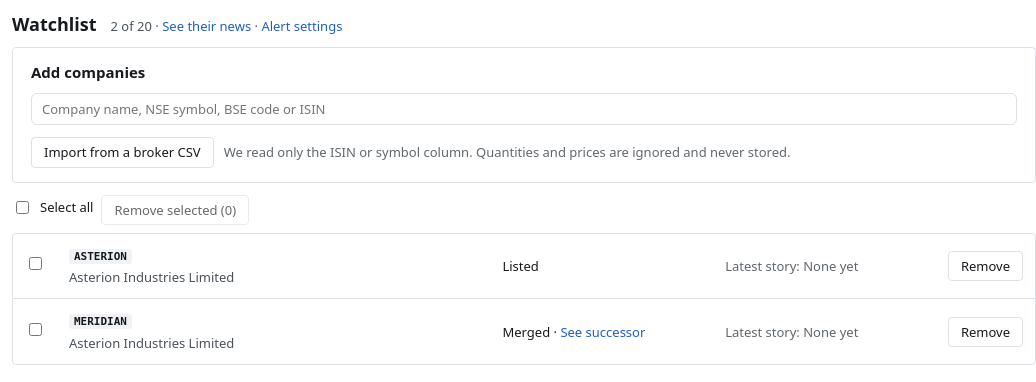
Test: watchlist (PRD-003 §2) › bulk removal; merged companies suggest the successor without adding it
The width and height of the screenshot is (1036, 382).
Click the checkbox labelled "Select all": [22, 207] box [16,201,29,214]
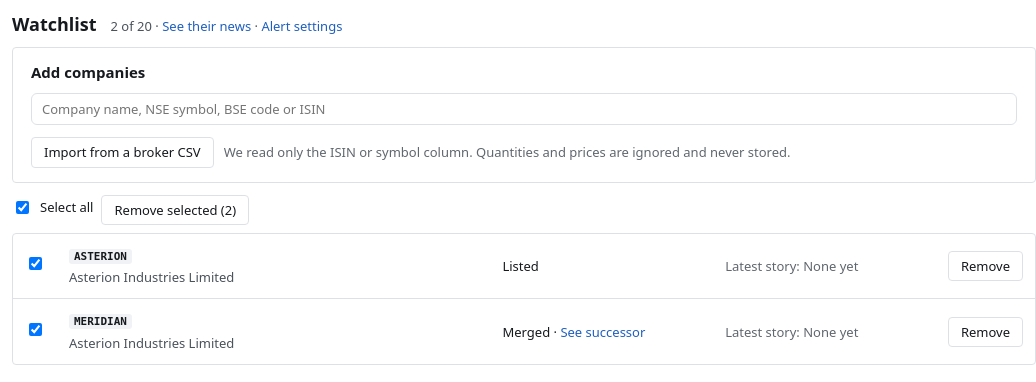
Click the button "Remove selected (2)": [175, 210] box [102,195,249,225]
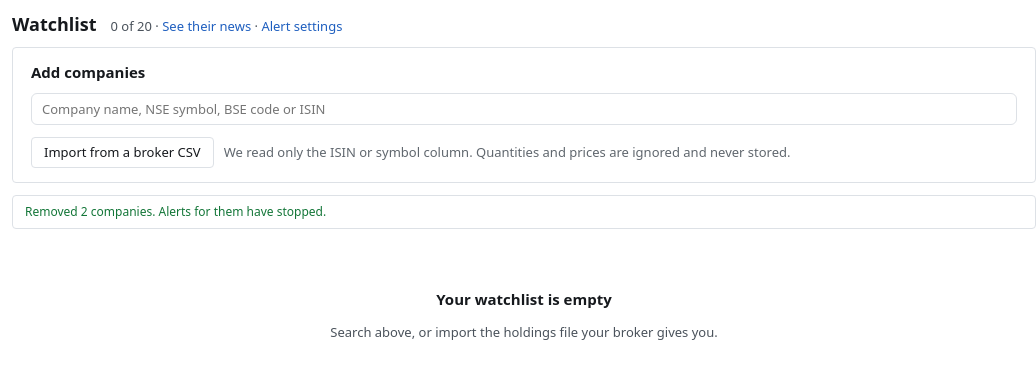
Now the text "Removed 2 companies. Alerts for them have stopped." is shown, box [12,195,1035,229]
